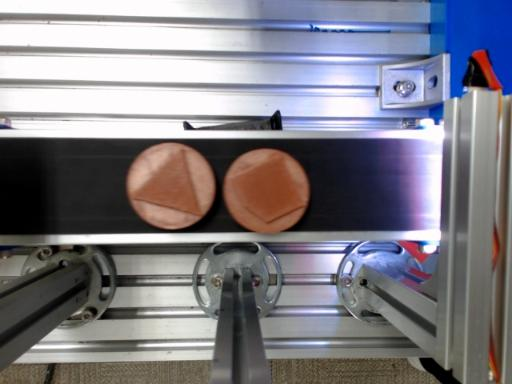Brown_Waper: (126, 143, 215, 229), (223, 149, 310, 233)
